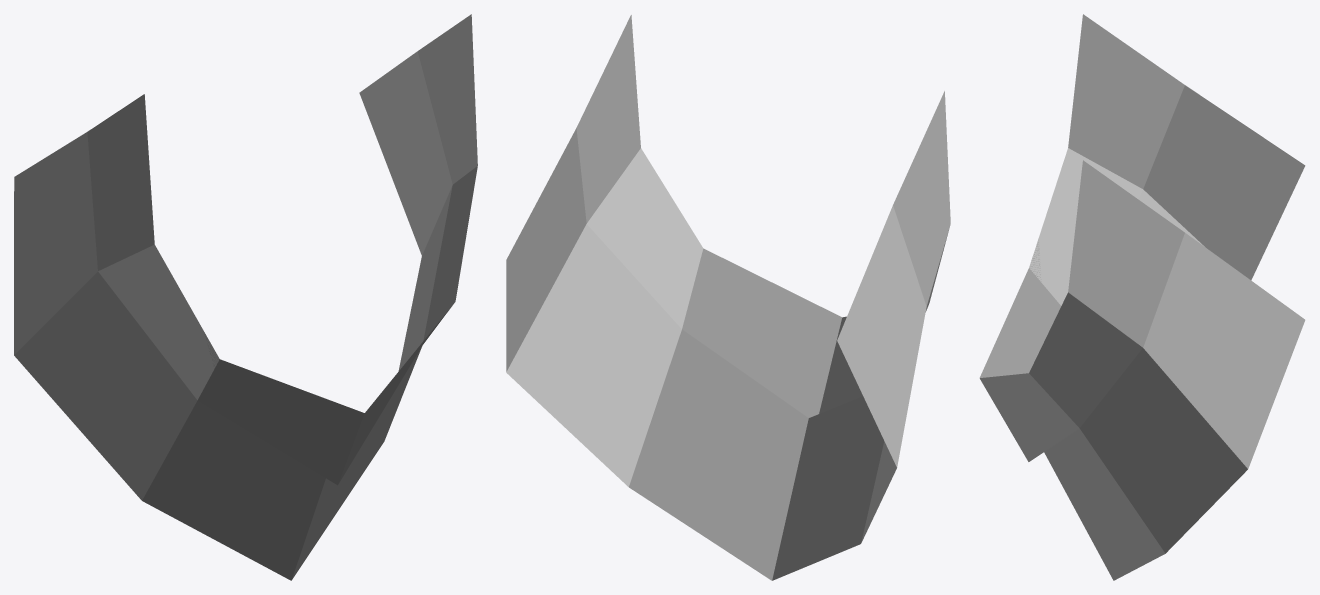
Rendered from highlighted_neck.fbx.
3 renders of one model, left to right at view 1: azimuth 30°, elevation 25°; view 2: azimuth 150°, elevation 25°; view 3: azimuth 270°, elevation 25°, orthographic. The views are drawn at different scales.
Parts seen in each view (by area): view 1: Goat_Male_1.002; view 2: Goat_Male_1.002; view 3: Goat_Male_1.002.
Boxes of the visible parts, x1,y1,x2,y2 form: Goat_Male_1.002: (14,14,477,580); Goat_Male_1.002: (506,15,950,580); Goat_Male_1.002: (979,14,1305,580).
Size of the model in its own units: 16.85 by 21.29 by 12.74.
